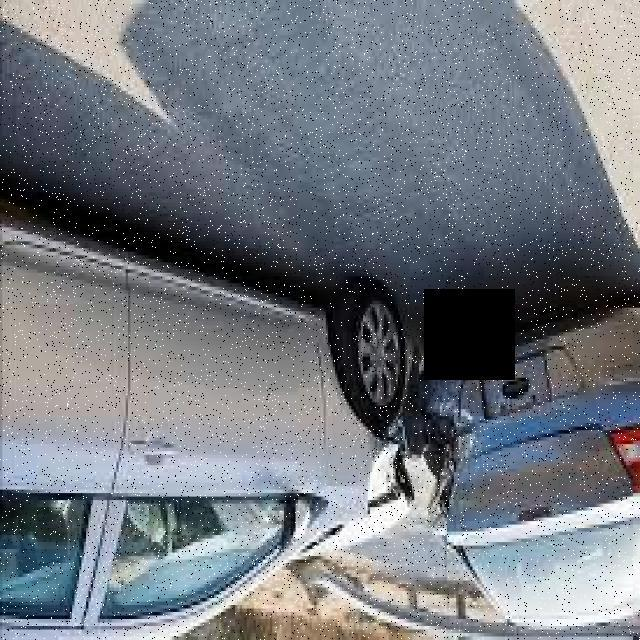moderate: (0, 185, 640, 640)
